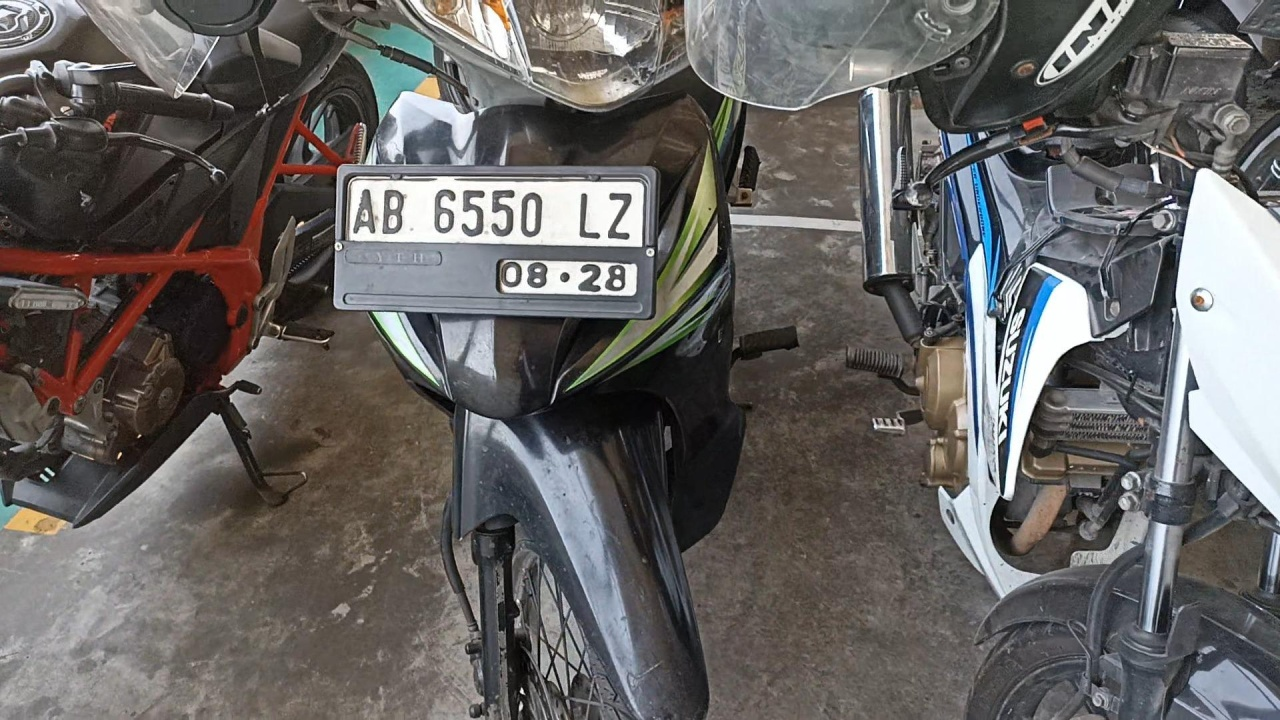plate: (341, 172, 650, 314)
